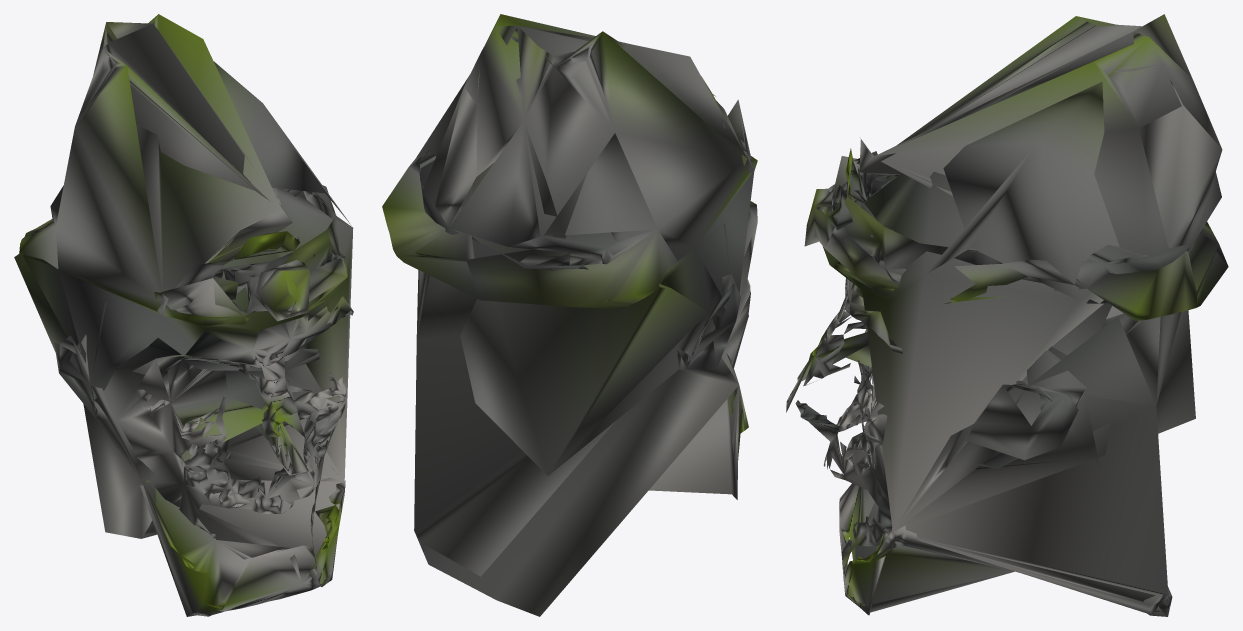
Rendered from gen3d-carved-stone-head-lod0.glb.
3 renders of one model, left to right at view 1: azimuth 30°, elevation 25°; view 2: azimuth 150°, elevation 25°; view 3: azimuth 270°, elevation 25°, orthographic. The views are drawn at different scales.
Visible parts, largest first — view 1: part_0; view 2: part_0; view 3: part_0.
Boxes of the visible parts, <box> form: part_0: <box>14,14,353,616</box>; part_0: <box>382,14,757,616</box>; part_0: <box>786,14,1228,616</box>.
Bounding box in the file's own units: 0.5315 × 0.9987 × 0.6901.
